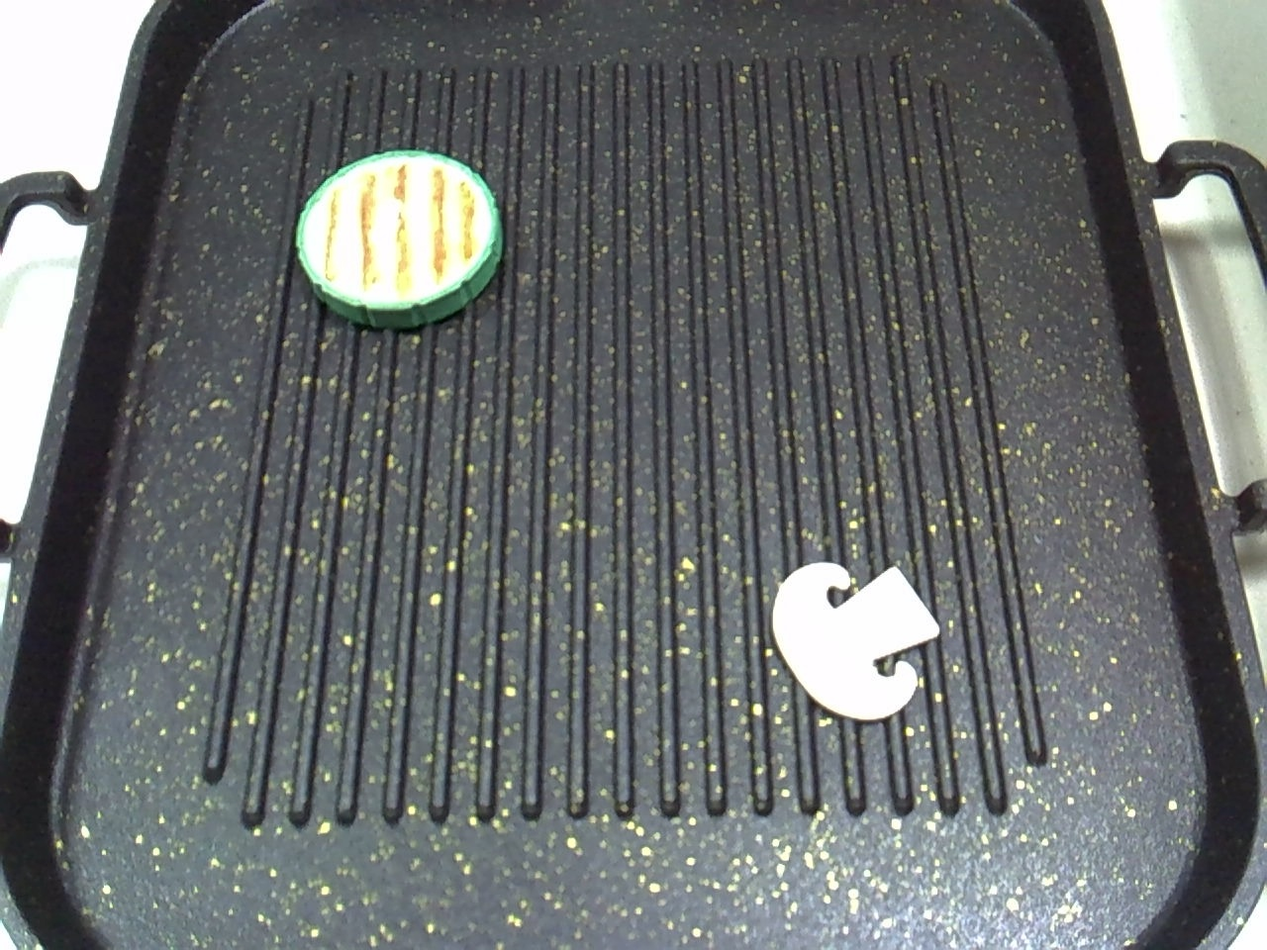MU1 0: (763, 533, 950, 744)
Z1 1: (276, 126, 528, 350)
